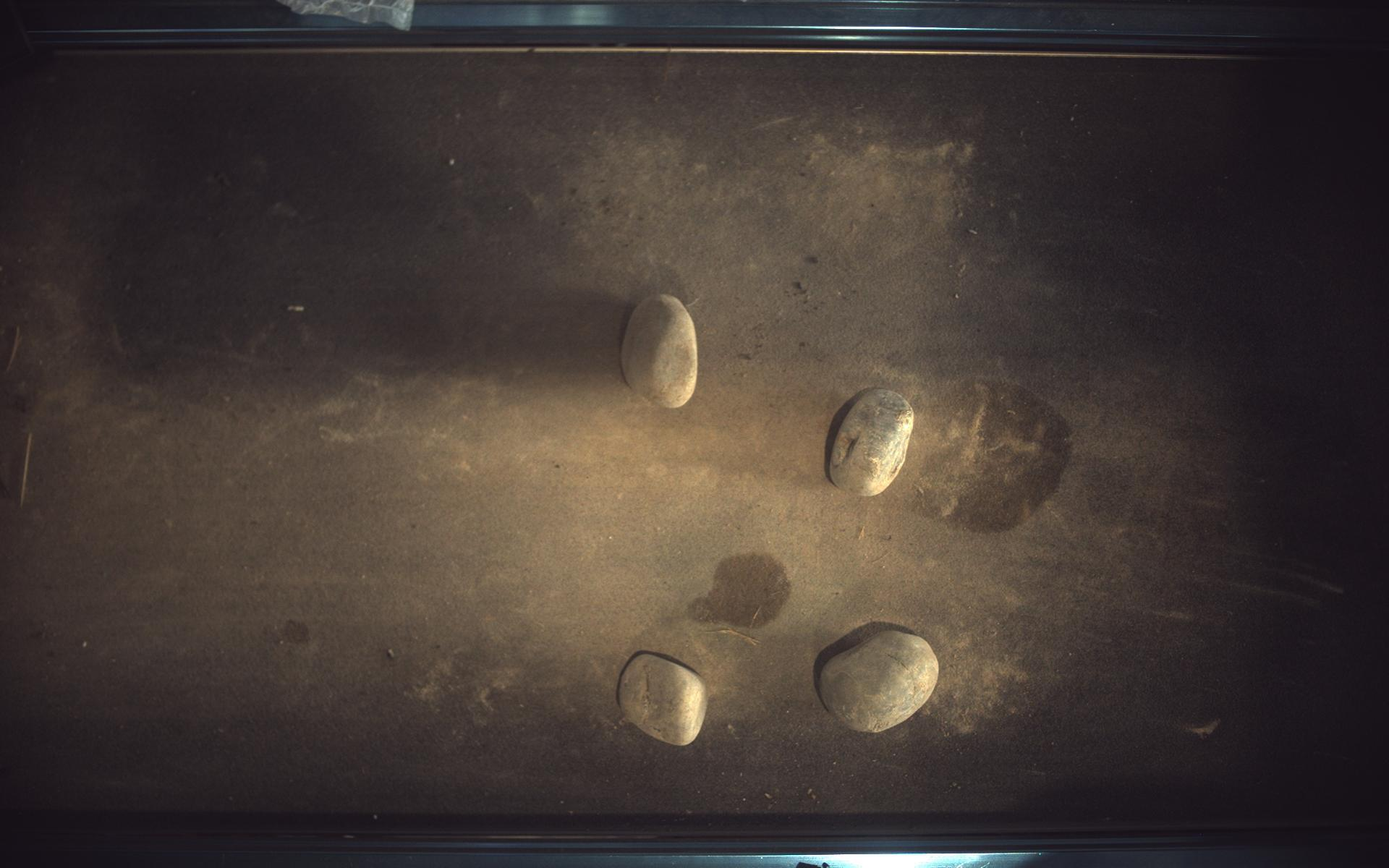stone: (818, 630, 940, 734), (831, 389, 916, 497), (622, 294, 699, 408), (619, 655, 709, 747)
